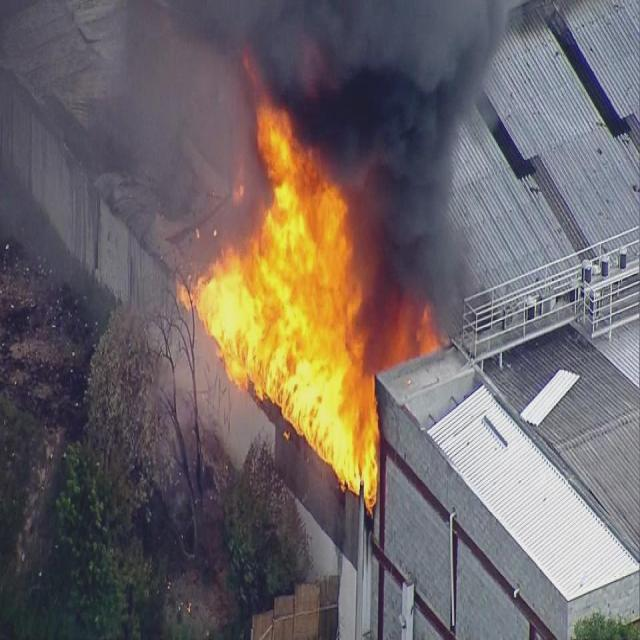Fire: (176, 95, 387, 512), (393, 292, 441, 362)
